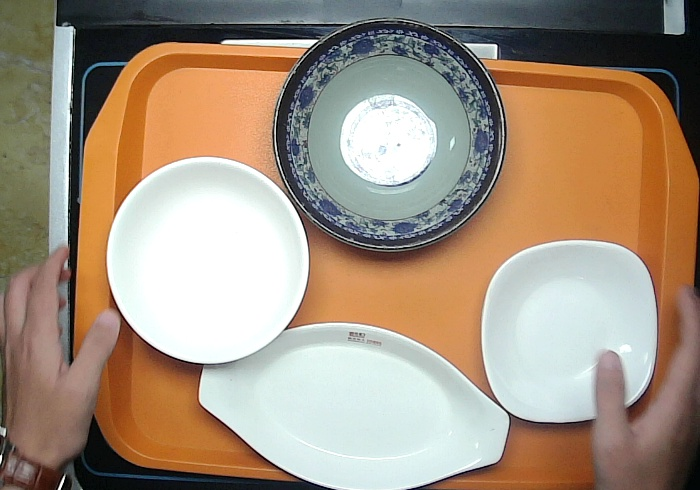ZNLD-Qing_Hua_Wan: (272, 9, 511, 261)
ZNLD-Si_Fang_Wan: (477, 222, 672, 435)
ZNLD-Tang_Wan: (88, 144, 325, 375)
ZNLD-Yu_Pan: (189, 303, 516, 490)
